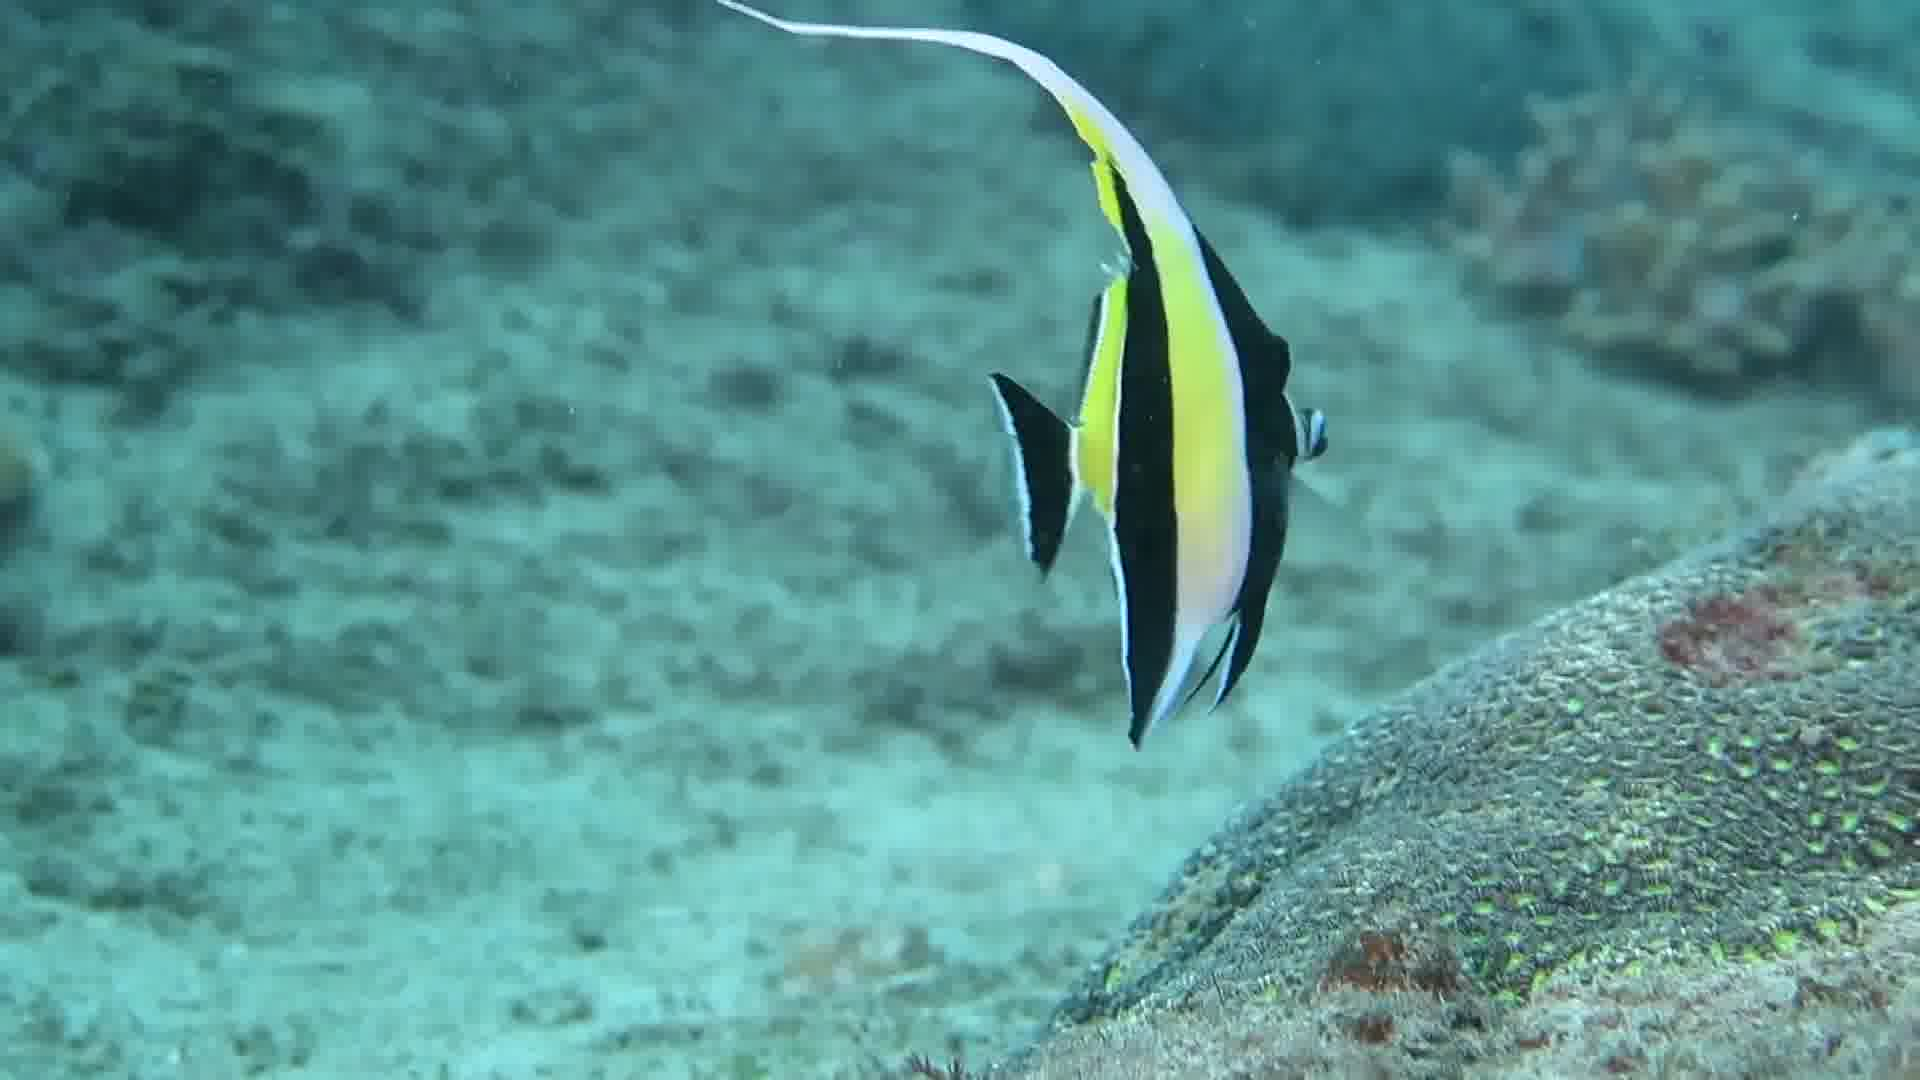Zanclus cornutus: (877, 1, 1385, 769)
